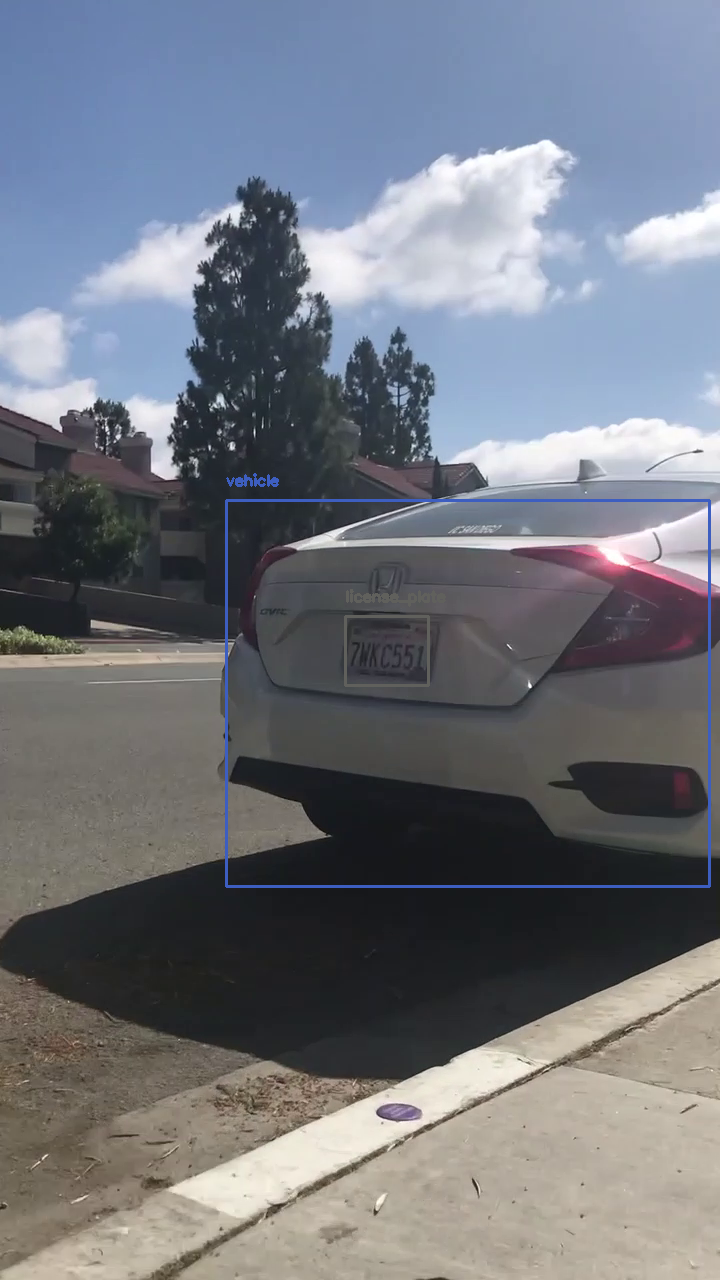license_plate: (345, 616, 428, 685)
vehicle: (226, 500, 709, 886)
